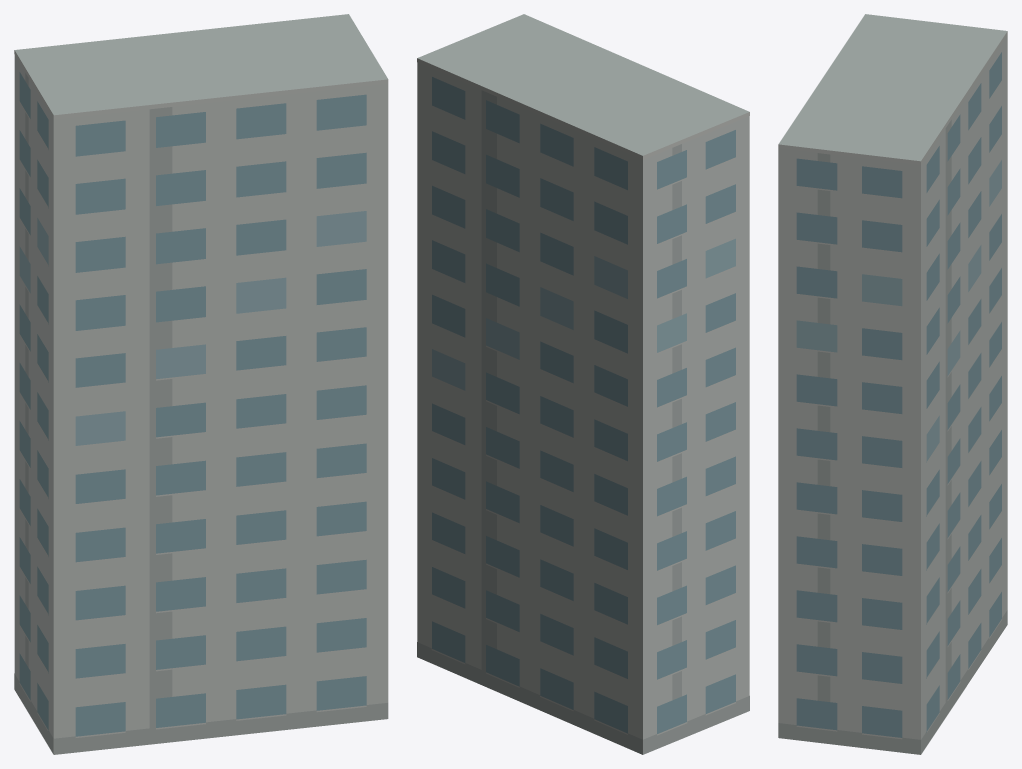
File: residential-96bf30b7-abb5-4a77-8c24-1180a6eeb5c3.glb
3 views of the same model, side by side, from view 1: azimuth 30°, elevation 25°; view 2: azimuth 150°, elevation 25°; view 3: azimuth 270°, elevation 25° (orthographic). The views are drawn at different scales.
Visible parts, largest first — view 1: residential-96bf30b7-abb5-4a77-8c24-1180a6eeb5c3.tmp; view 2: residential-96bf30b7-abb5-4a77-8c24-1180a6eeb5c3.tmp; view 3: residential-96bf30b7-abb5-4a77-8c24-1180a6eeb5c3.tmp.
Boxes of the visible parts, x1=… form: residential-96bf30b7-abb5-4a77-8c24-1180a6eeb5c3.tmp: x1=14, y1=14, x2=388, y2=754; residential-96bf30b7-abb5-4a77-8c24-1180a6eeb5c3.tmp: x1=417, y1=14, x2=749, y2=754; residential-96bf30b7-abb5-4a77-8c24-1180a6eeb5c3.tmp: x1=778, y1=14, x2=1007, y2=754.
Size of the model in its own units: 19.16 by 36 by 12.61.
